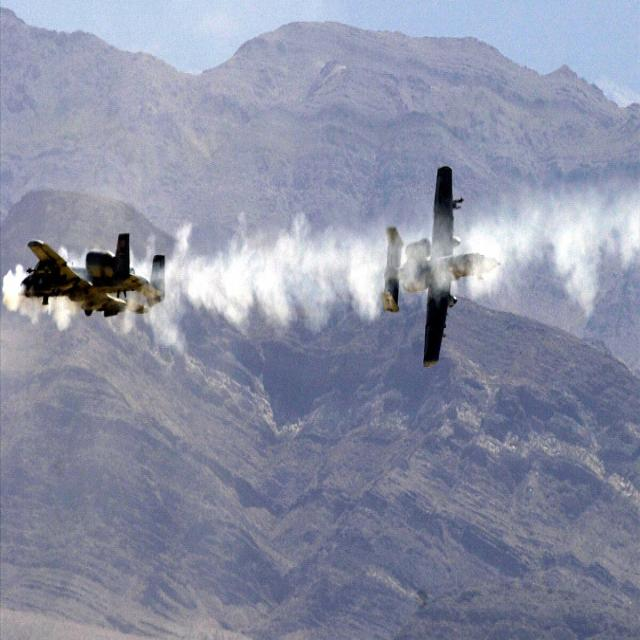MIL_Plane: (380, 165, 501, 368), (18, 231, 165, 318)
